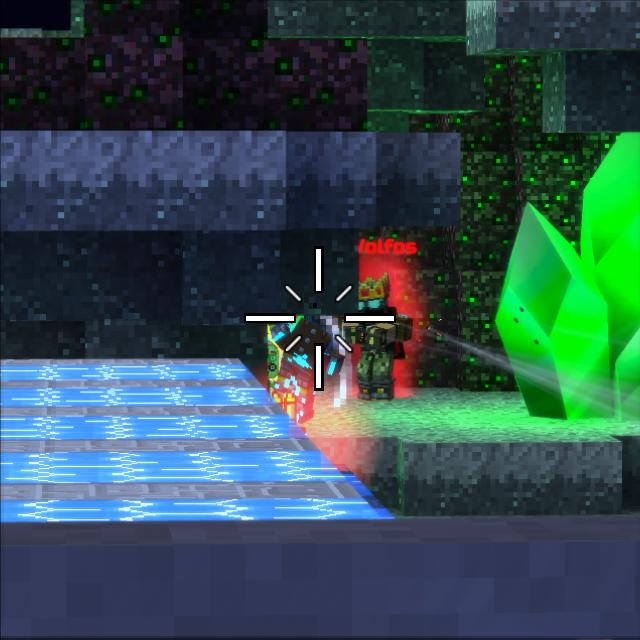Enemy: (342, 274, 410, 401)
